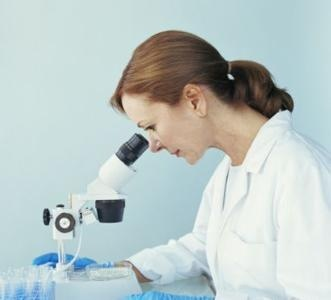person without safety: (105, 26, 320, 281)
